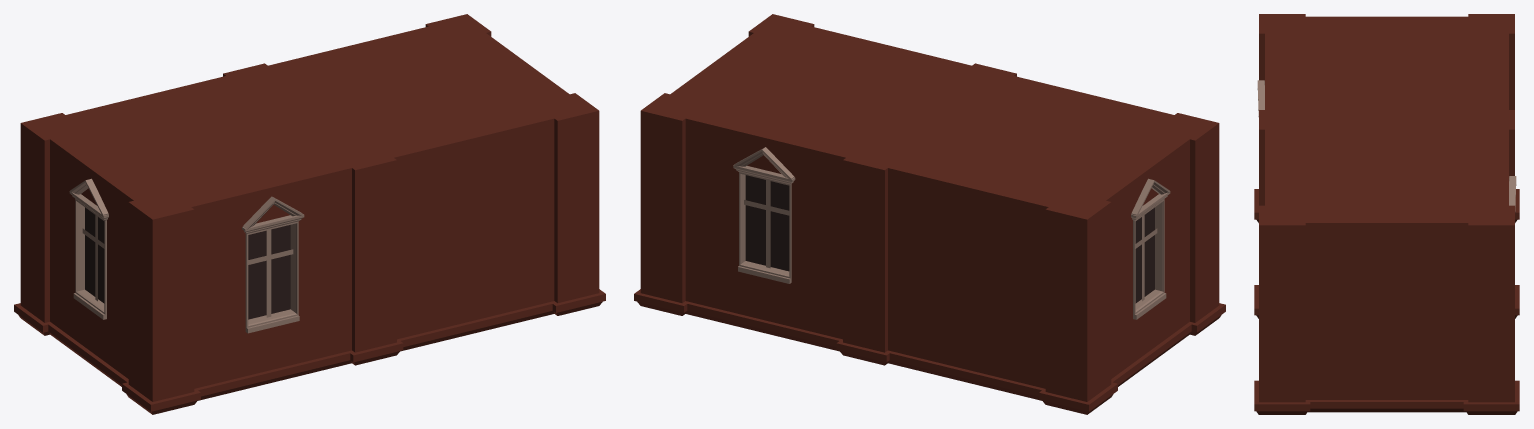
The model's file is bigrect_mid_1.glb.
3 views of the same model, side by side, from view 1: azimuth 30°, elevation 25°; view 2: azimuth 150°, elevation 25°; view 3: azimuth 270°, elevation 25° (orthographic). The views are drawn at different scales.
Parts seen in each view (by area): view 1: bigrect_mid_1; view 2: bigrect_mid_1; view 3: bigrect_mid_1.
Part boxes in pixels (box(x1,y1,x2,y2)): bigrect_mid_1: box(14, 14, 605, 414); bigrect_mid_1: box(634, 14, 1225, 414); bigrect_mid_1: box(1254, 14, 1519, 414).
Size of the model in its own units: 10.44 by 4.28 by 5.44.
